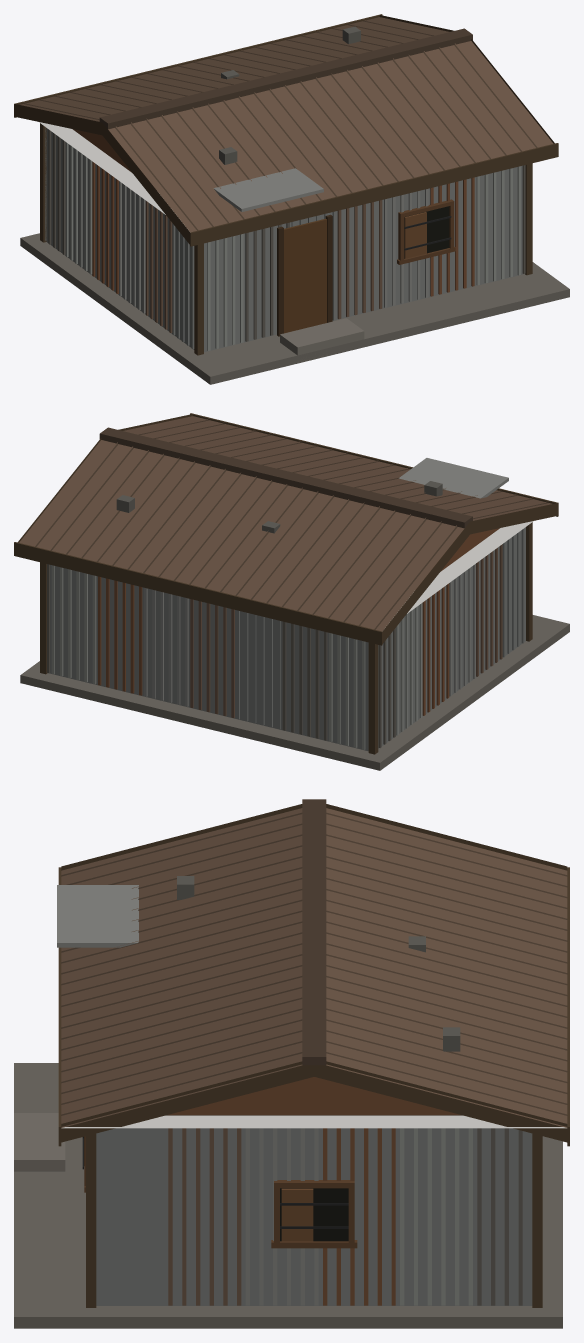
Rendered from ns_zinc.glb.
3 views of the same model, one above another, from view 1: azimuth 30°, elevation 25°; view 2: azimuth 150°, elevation 25°; view 3: azimuth 270°, elevation 25° (orthographic). The views are drawn at different scales.
Visible parts, largest first — view 1: ns_zinc; view 2: ns_zinc; view 3: ns_zinc.
Boxes of the visible parts, x1,y1,x2,y2 form: ns_zinc: (14, 14, 569, 384); ns_zinc: (14, 413, 569, 770); ns_zinc: (14, 799, 569, 1328).
Bounding box in the file's own units: 7.16 × 3.52 × 6.48.
